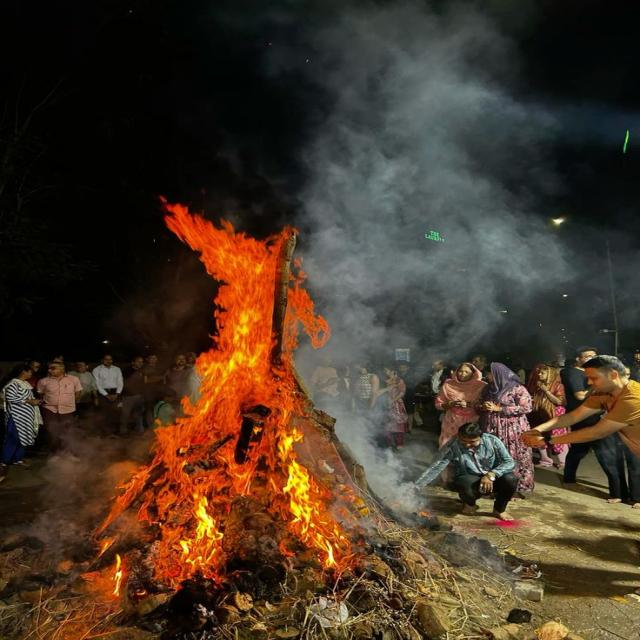fire: (95, 203, 354, 588)
